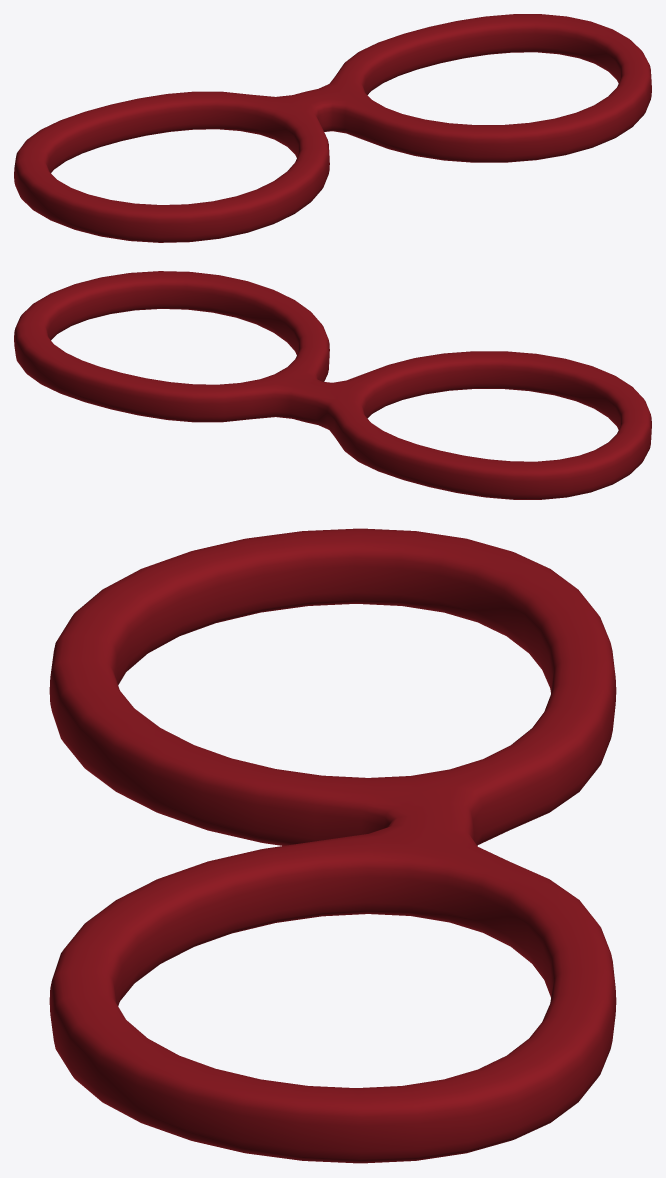
The model's file is Glasses.fbx.
3 views of the same model, one above another, from view 1: azimuth 30°, elevation 25°; view 2: azimuth 150°, elevation 25°; view 3: azimuth 270°, elevation 25° (orthographic). The views are drawn at different scales.
Parts seen in each view (by area): view 1: Circle; view 2: Circle; view 3: Circle.
Part boxes in pixels (<box>): Circle: <box>14,14,651,242</box>; Circle: <box>14,271,651,499</box>; Circle: <box>49,528,616,1163</box>.
Bounding box in the file's own units: 0.8276 × 0.0404 × 0.3378.
